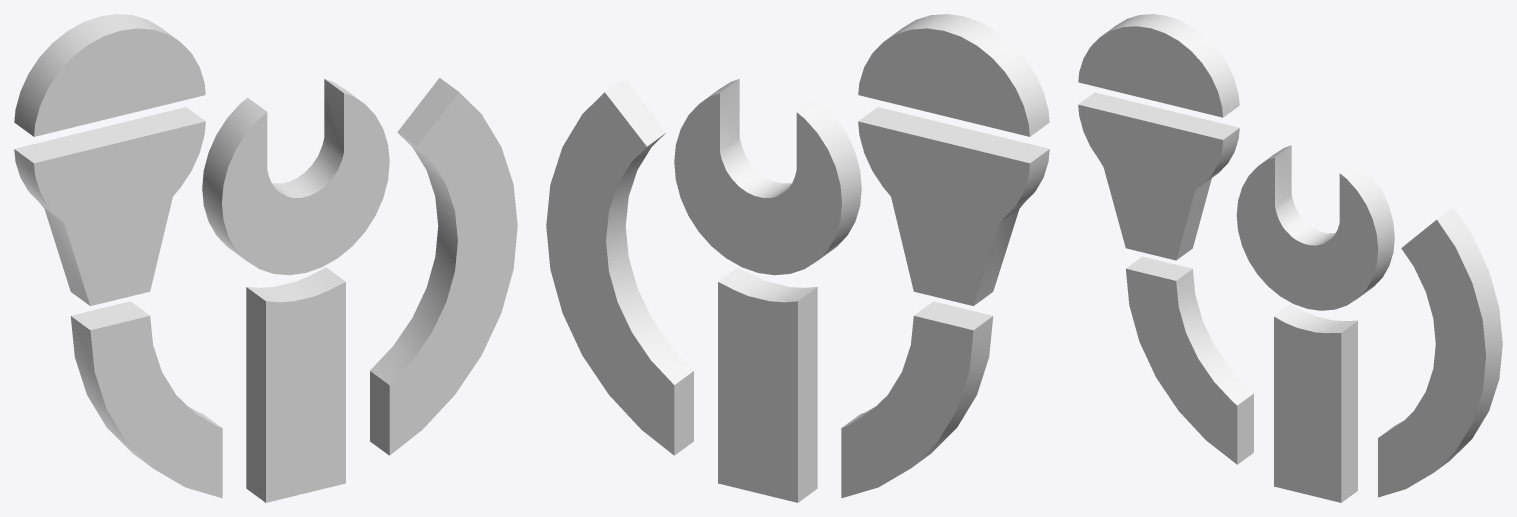
File: options.ico.obj
The picture shows the model from 3 angles, left to right: view 1: azimuth 30°, elevation 25°; view 2: azimuth 150°, elevation 25°; view 3: azimuth 330°, elevation 25°; orthographic projection. The views are drawn at different scales.
Size of the model in its own units: 4.68 by 4.69 by 0.3301.
Materials: 1 (1 with a texture image).
